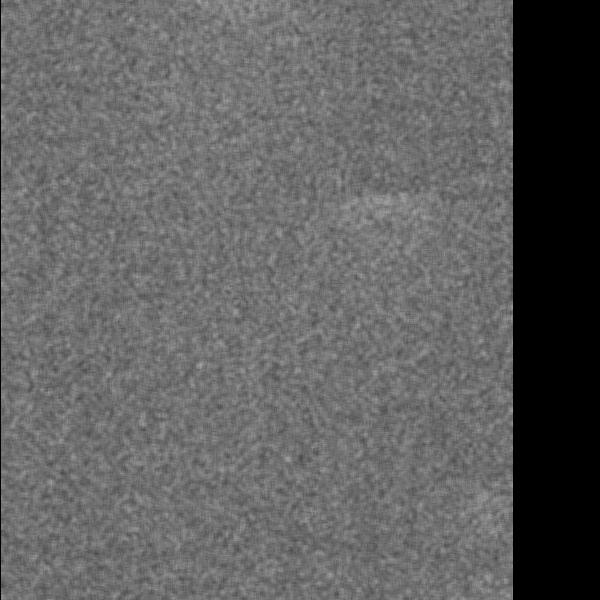spark: (355, 189, 410, 226)
